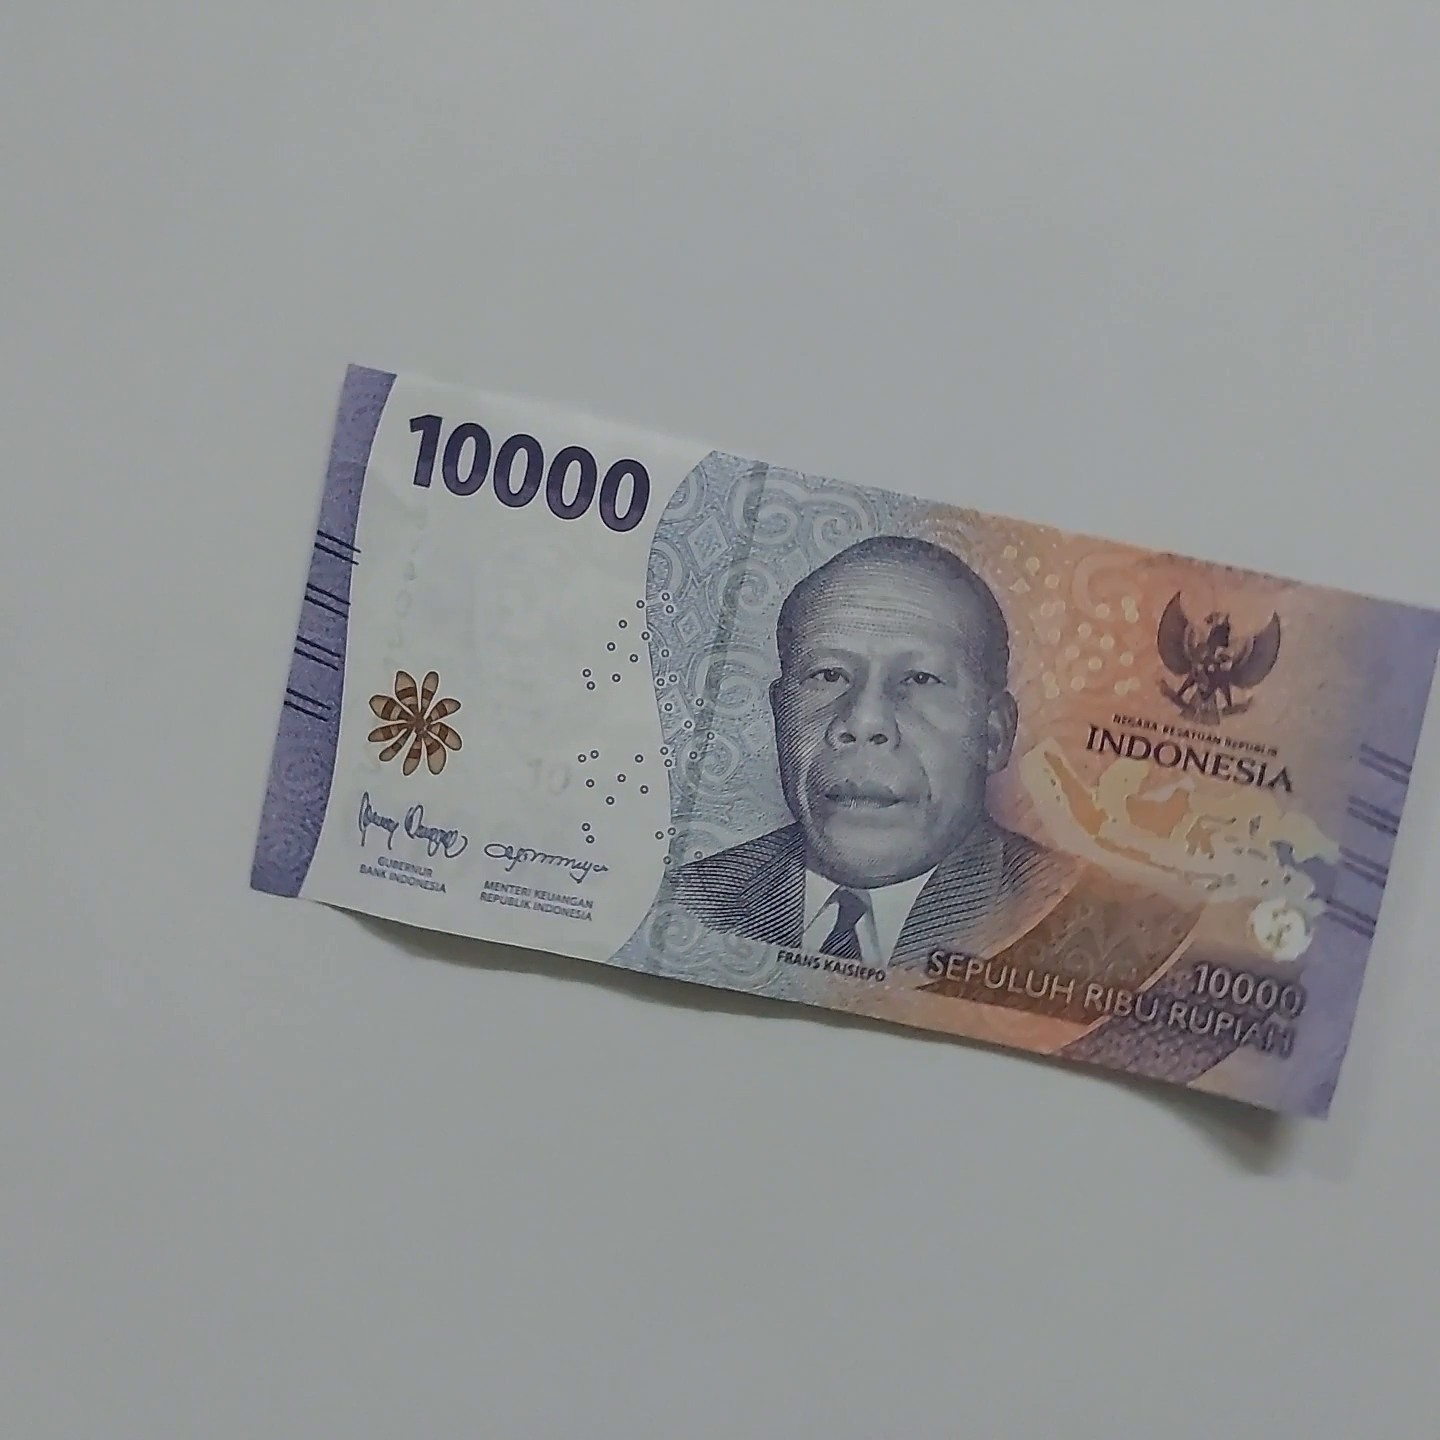10k: (249, 322, 1440, 1137)
